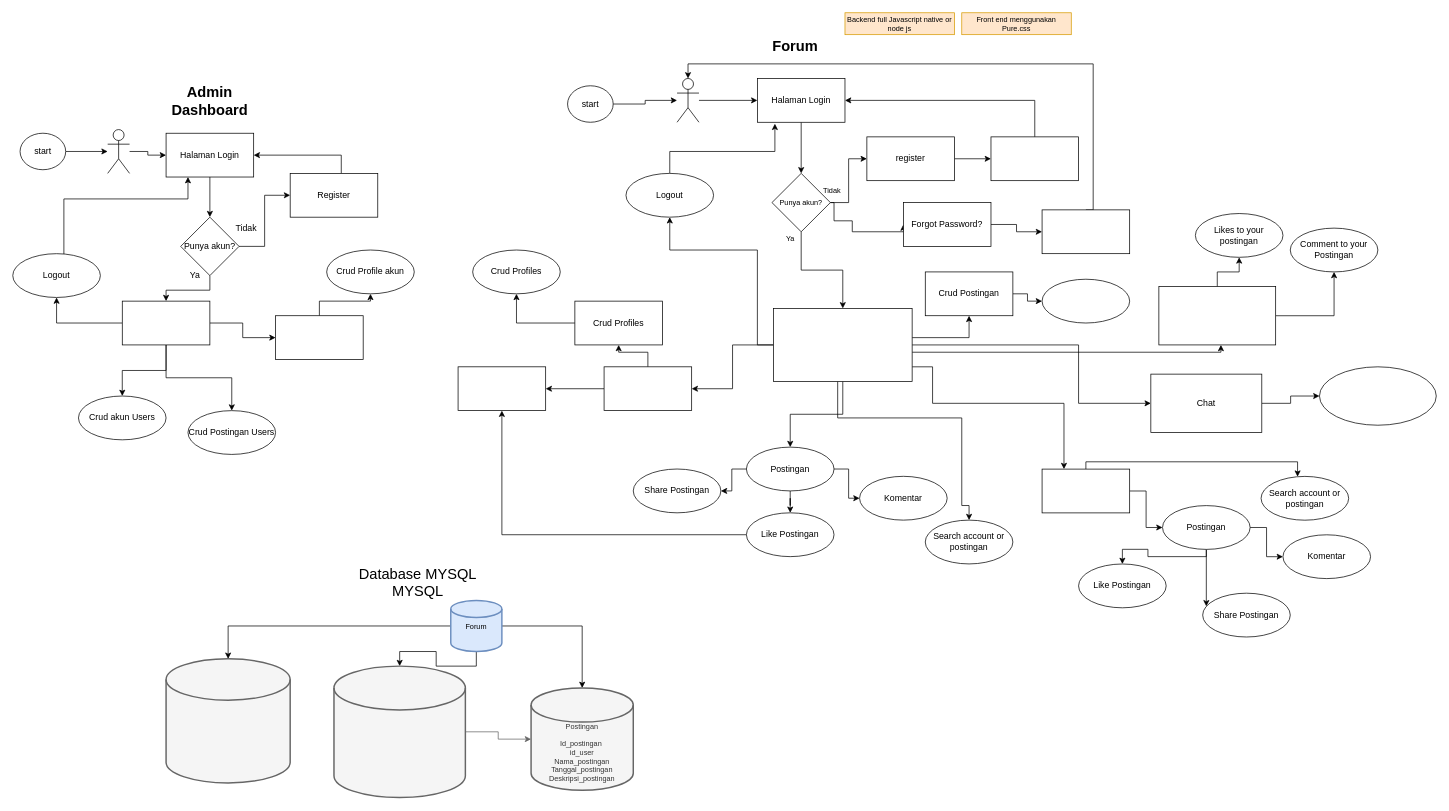
The diagram is 1449 pixels wide and 811 high, and some of its shapes have lost their labels. The shapes that lost their labels are listed below. From the top down, each one's box as (x1, y1, x2, y2) in pixels, then its label:
(676, 78, 699, 122): User
(107, 129, 130, 173): Admin
(990, 136, 1079, 181): Form Register
(1041, 209, 1130, 254): Verify Email
(1041, 278, 1130, 323): Add Update Delete Data Postingan
(1158, 286, 1276, 345): Notification
(122, 300, 210, 345): Halaman Home Admin
(275, 315, 363, 360): Setting akun
(773, 308, 912, 381): Halaman Home
(457, 366, 546, 411): History Like Postingan
(603, 366, 692, 411): Setting
(1319, 366, 1436, 425): Room Chat with other People
(1041, 468, 1130, 513): Explore Postingan in the world
(165, 658, 291, 783): Admin id Fullname Email Username Password
(333, 665, 466, 798): Users Id Fullname Email Username Password id_postingan
